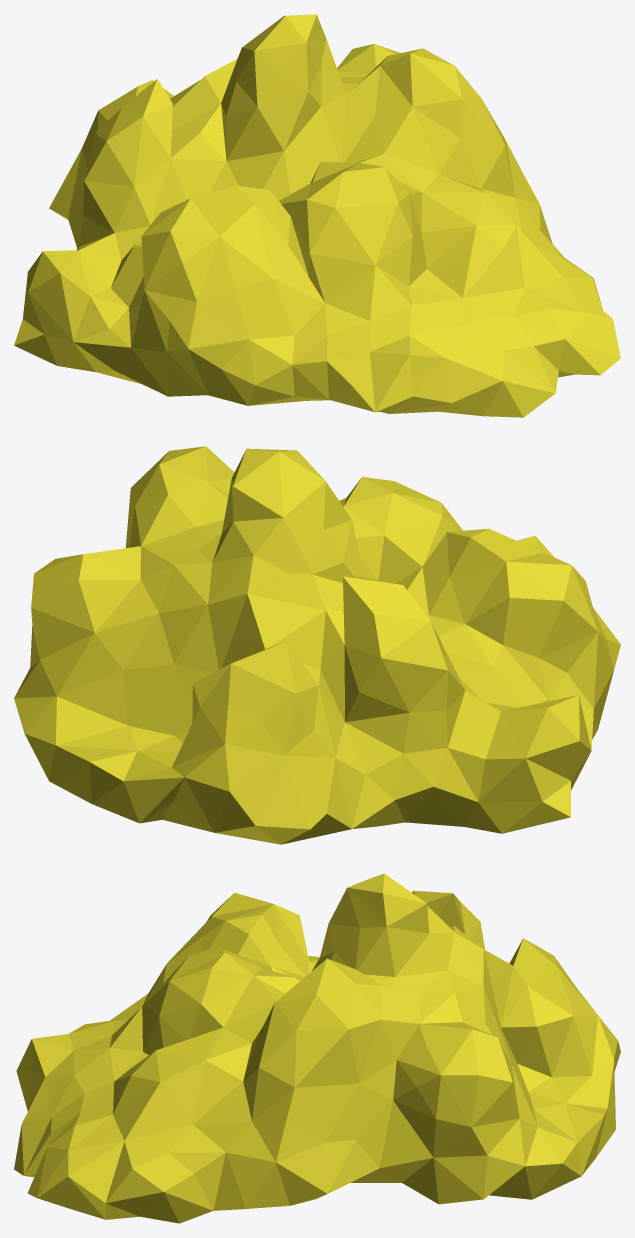
The model's file is SulfurDeposit_v1.fbx.
3 views of the same model, one above another, from view 1: azimuth 30°, elevation 25°; view 2: azimuth 150°, elevation 25°; view 3: azimuth 270°, elevation 25° (orthographic). The views are drawn at different scales.
Visible parts, largest first — view 1: Icosphere; view 2: Icosphere; view 3: Icosphere.
Part boxes in pixels (left/top/right/bottom): Icosphere: left=14, top=14, right=620, bottom=417; Icosphere: left=14, top=446, right=620, bottom=844; Icosphere: left=14, top=873, right=620, bottom=1223.
Bounding box in the file's own units: 738 × 449 × 836.
1 material, 1 textured.
